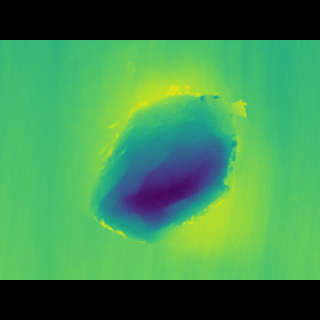Loch: (81, 77, 254, 227)
